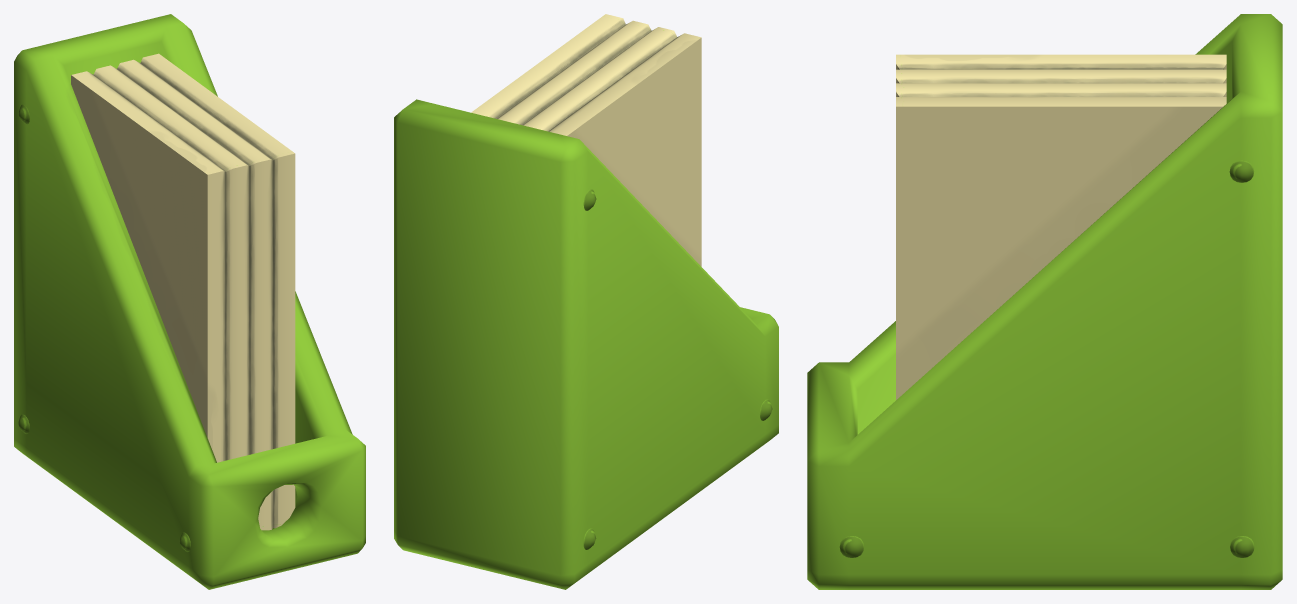
The model's file is PRP_Binder.fbx.
3 renders of one model, left to right at view 1: azimuth 30°, elevation 25°; view 2: azimuth 150°, elevation 25°; view 3: azimuth 270°, elevation 25°, orthographic. The views are drawn at different scales.
Parts seen in each view (by area): view 1: Cube.002; view 2: Cube.002; view 3: Cube.002.
Boxes of the visible parts, box(x1,y1,x2,y2) form: Cube.002: box(14, 14, 365, 589); Cube.002: box(394, 14, 778, 589); Cube.002: box(807, 14, 1282, 589).
Size of the model in its own units: 74.87 by 161 by 142.
1 material, 1 textured.
